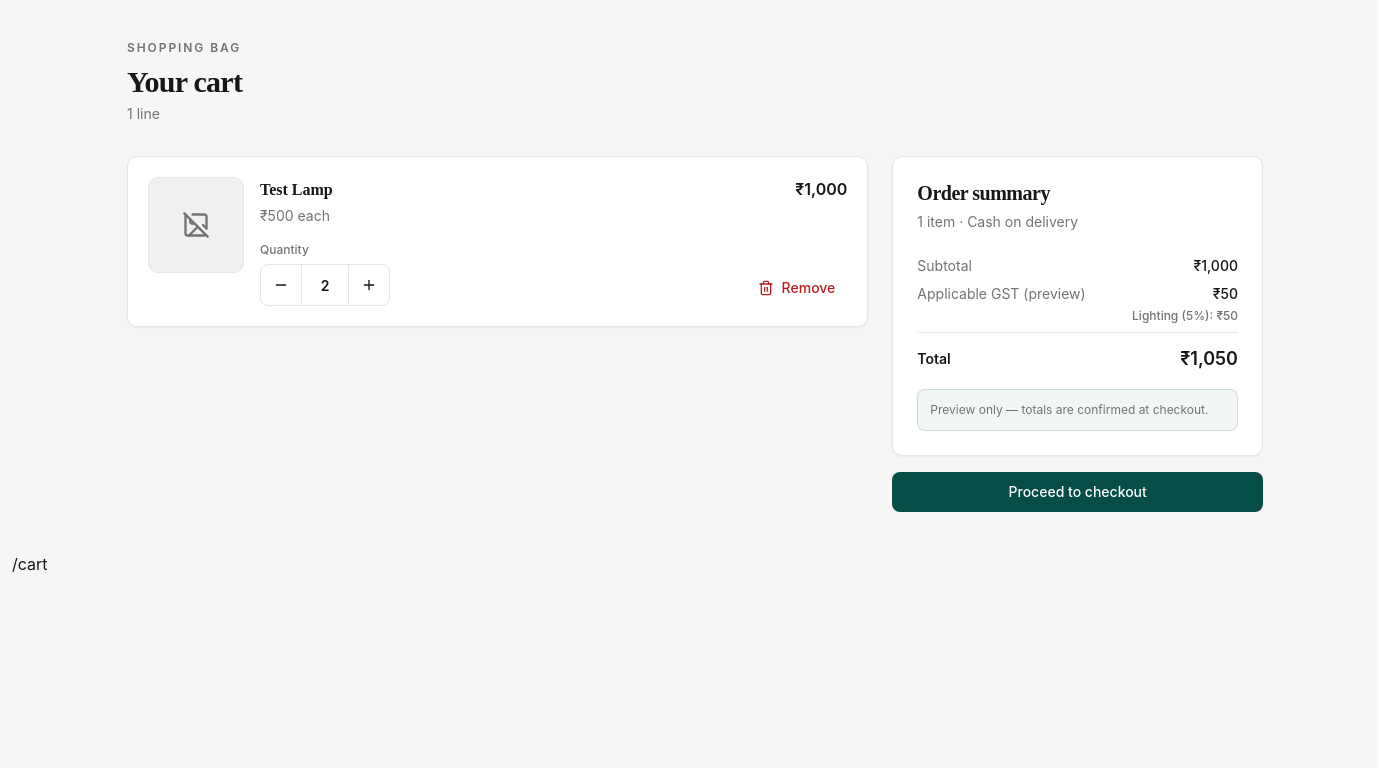
Test: CartPage › reports a failed quantity update and keeps the line
Expected: the link "Test Lamp" is shown, [260,181,333,198]
What coordinates should you click on to do the following:
click the button named "Increase quantity"
I would click on:
 (369, 285)
Its box is [349,265,389,305].
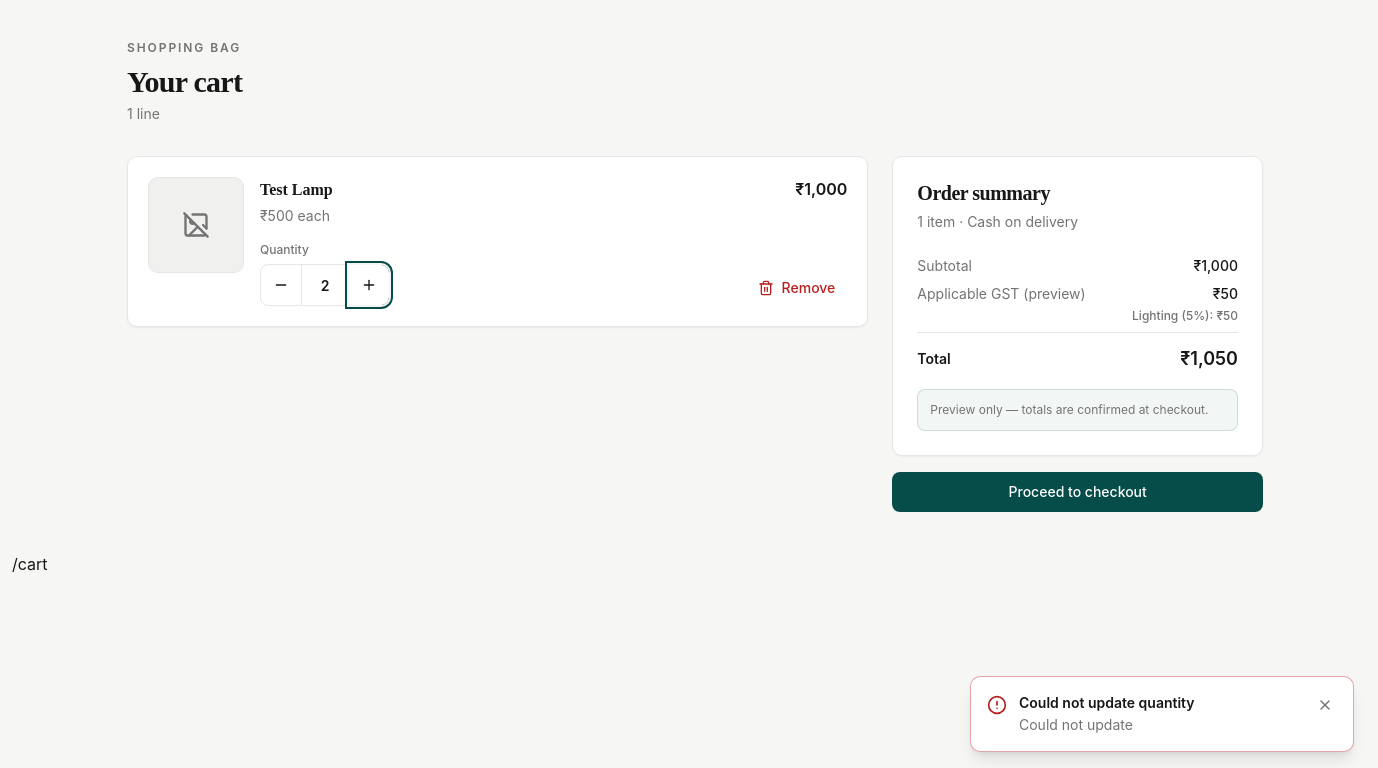
Expected: the link "Test Lamp" is shown, [260,181,333,198]
Now the text "Could not update quantity" is shown, box [1019,694,1195,711]
